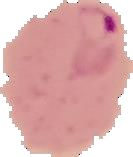parasitized: (57, 3, 122, 88)
